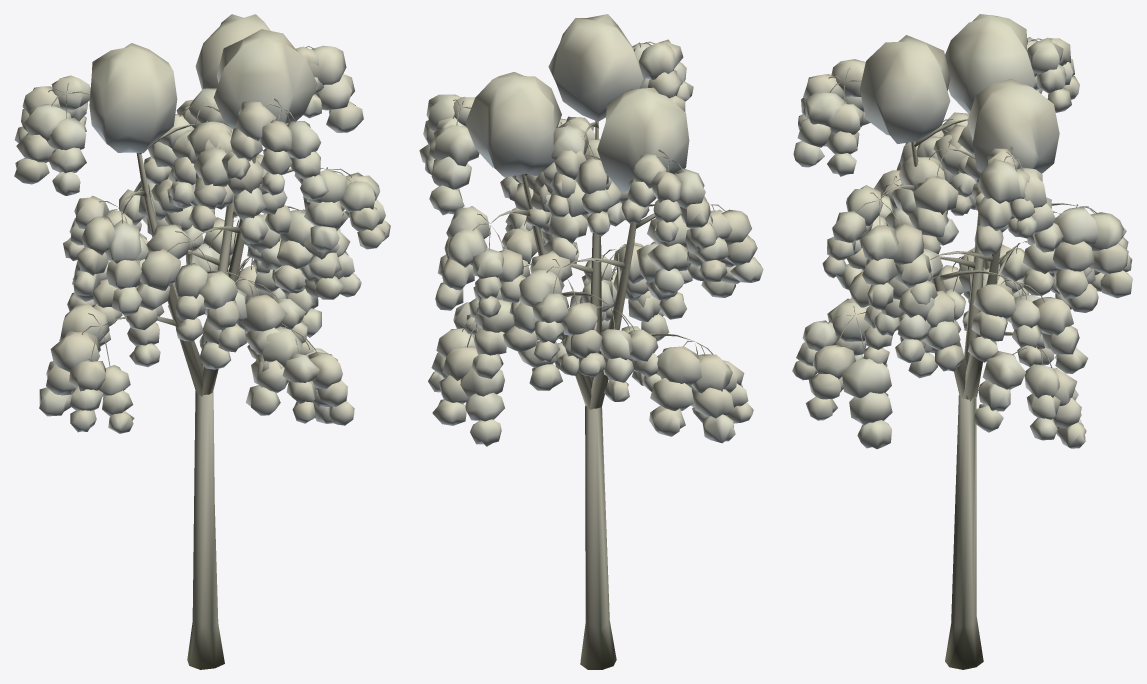
3 views of the same model, side by side, from view 1: azimuth 30°, elevation 25°; view 2: azimuth 150°, elevation 25°; view 3: azimuth 270°, elevation 25° (orthographic). The views are drawn at different scales.
Parts seen in each view (by area): view 1: crown, trunk; view 2: crown, trunk; view 3: crown, trunk.
Part boxes in pixels (<box>): crown: <box>14,14,390,433</box>; trunk: <box>48,46,351,669</box>; crown: <box>419,14,763,446</box>; trunk: <box>453,41,726,669</box>; crown: <box>792,14,1132,448</box>; trunk: <box>828,38,1096,669</box>.
Size of the model in its own units: 7.6 by 14.26 by 6.95.
